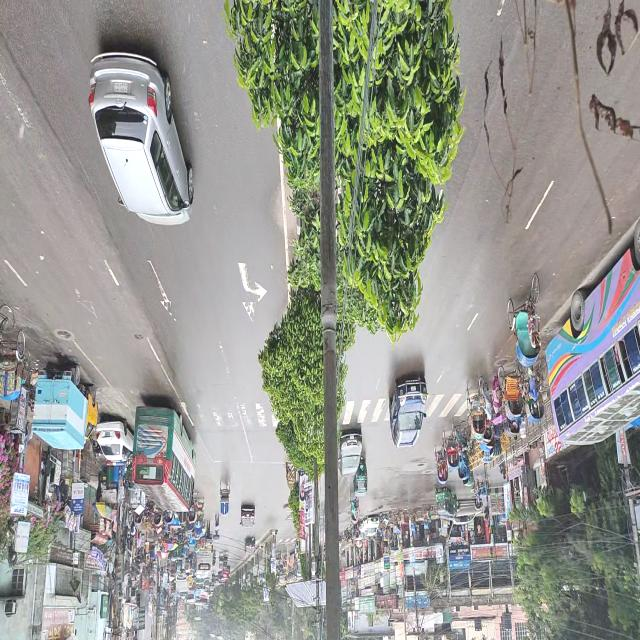black: (239, 504, 255, 529)
blue: (390, 374, 428, 448)
silver: (90, 51, 192, 232), (338, 427, 363, 475)
white: (92, 418, 137, 464)
